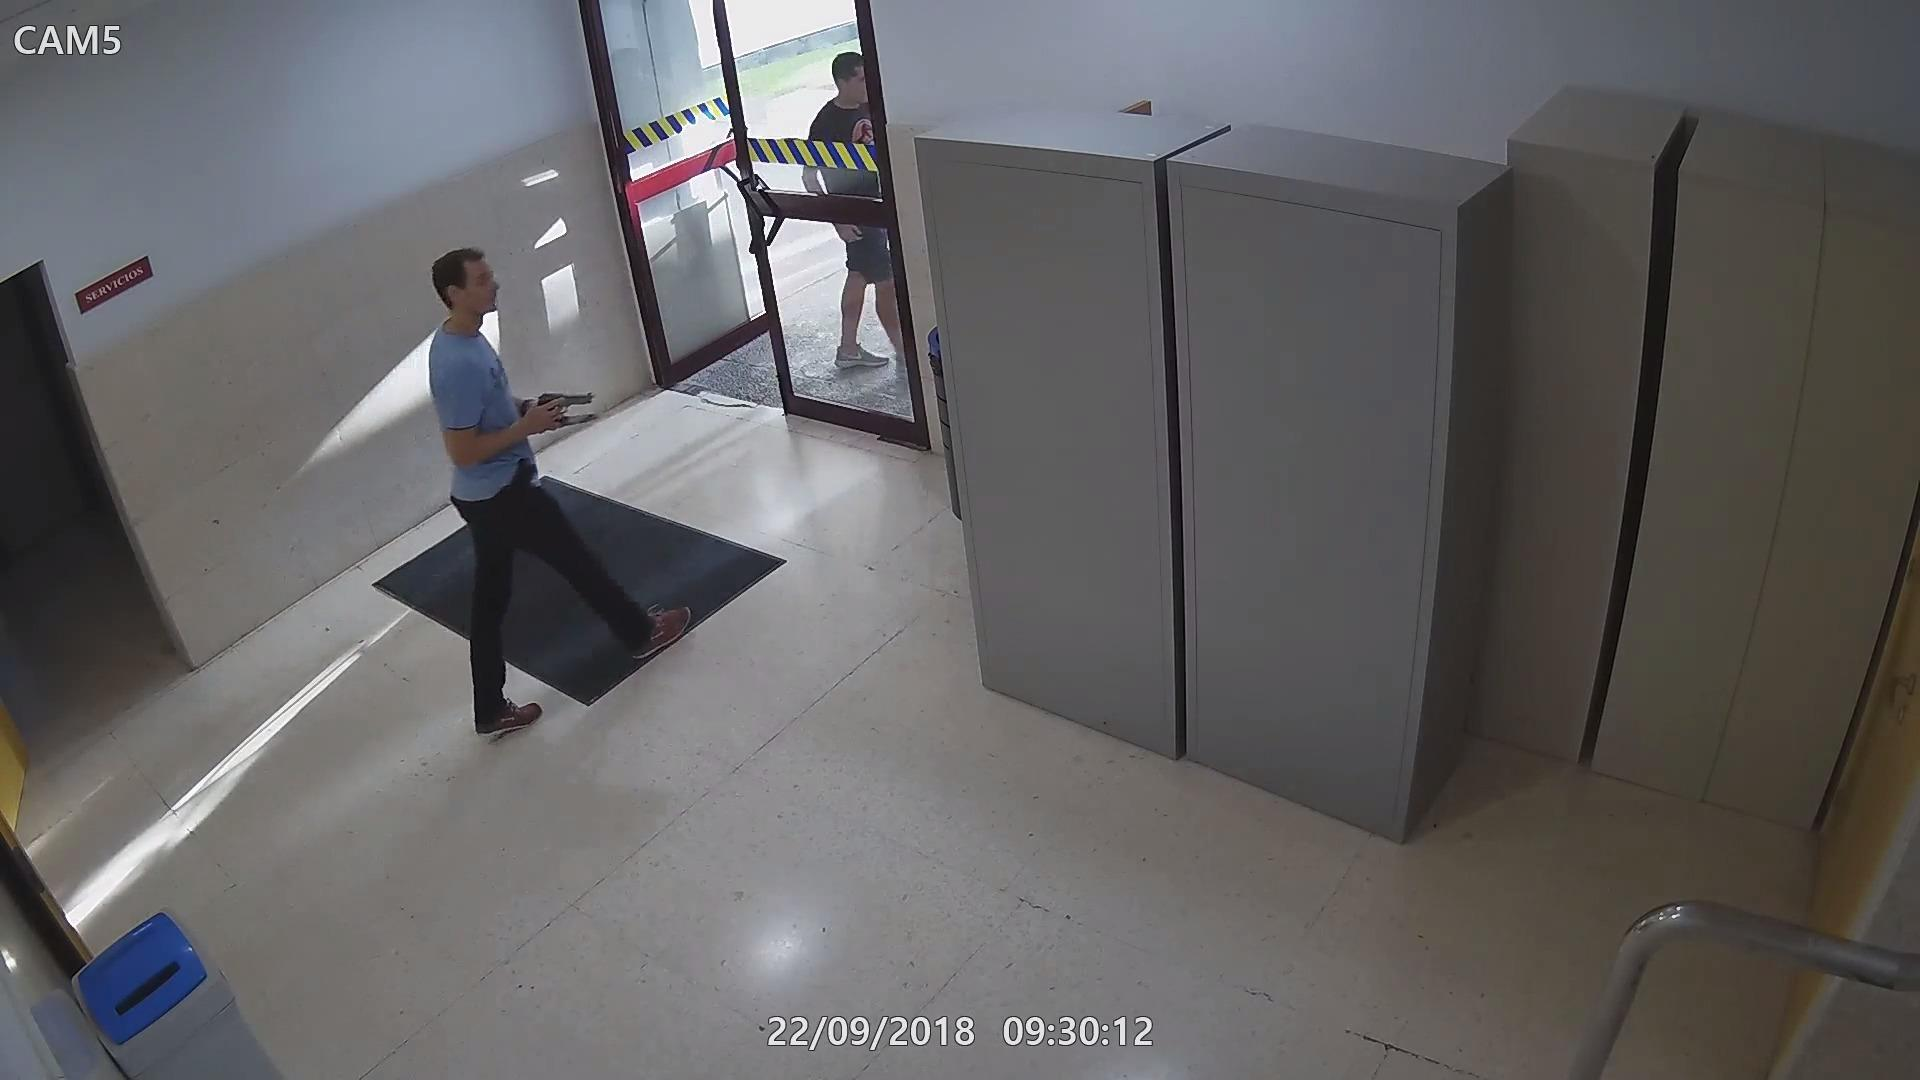Handgun: (525, 389, 593, 433)
